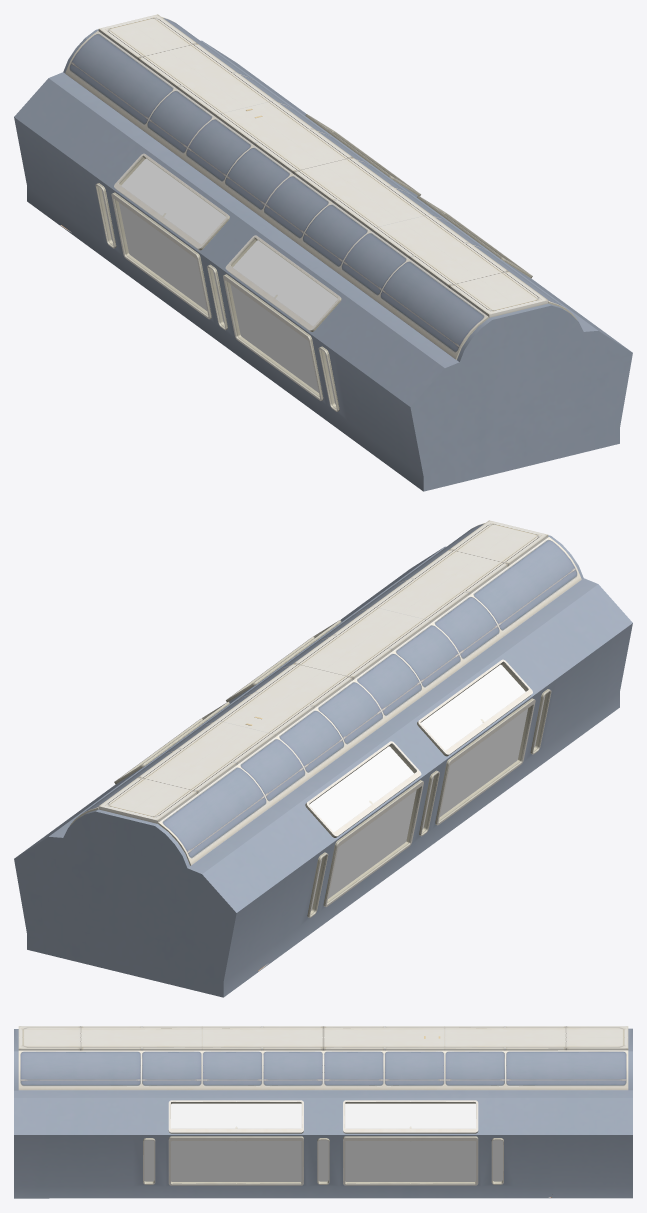
The model's file is Stage.fbx.
The picture shows the model from 3 angles, top to bottom: view 1: azimuth 30°, elevation 25°; view 2: azimuth 150°, elevation 25°; view 3: azimuth 270°, elevation 25°; orthographic projection. The views are drawn at different scales.
Parts seen in each view (by area): view 1: Body; view 2: Body; view 3: Body.
Part boxes in pixels (<box>): Body: <box>14,14,632,491</box>; Body: <box>14,520,632,997</box>; Body: <box>14,1026,632,1198</box>.
Size of the model in its own units: 218 by 146 by 660.
Materials: 36 (36 with a texture image).
